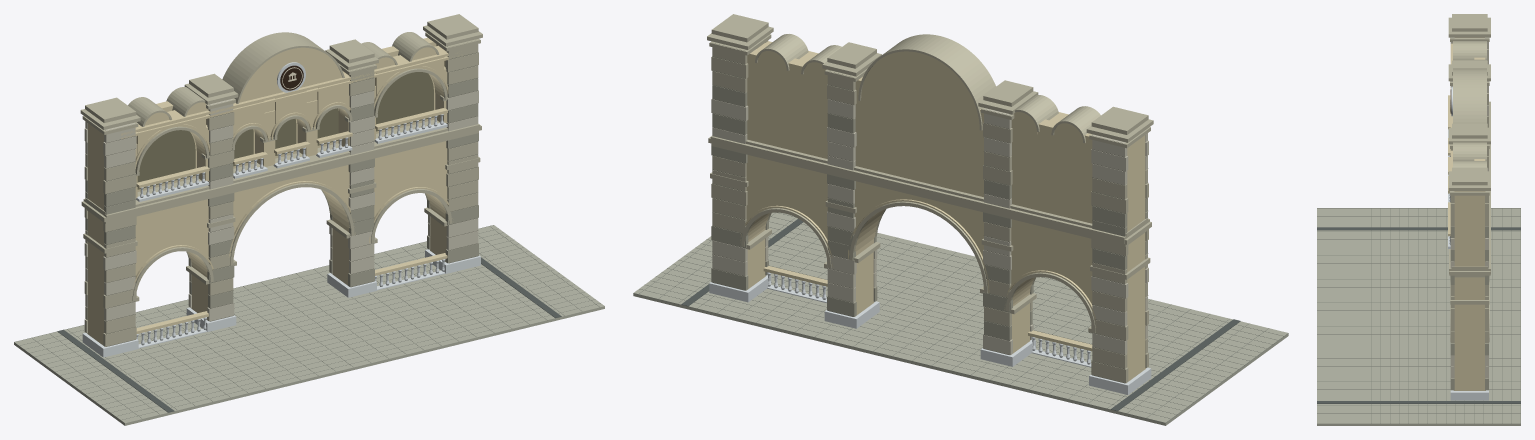
Rendered from motto_gate.glb.
3 views of the same model, side by side, from view 1: azimuth 30°, elevation 25°; view 2: azimuth 150°, elevation 25°; view 3: azimuth 270°, elevation 25° (orthographic). The views are drawn at different scales.
Parts seen in each view (by area): view 1: GateApron, RusticatedStoneBlocks, ApronTileGrout, LowerThroughArchVaults, LayeredPierCapitals, UpperNicheShadowRecesses, ContinuousBeltCornice, StonePierCores, RaisedUpperArchSpandrels, UpperContinuousCornice, CentralCurvedPediment, CentralPedimentRoundedCoping (+18 smaller); view 2: GateApron, RusticatedStoneBlocks, UpperRecessBackWall, LowerThroughArchVaults, ApronTileGrout, LayeredPierCapitals, StonePierCores, CentralCurvedPediment, ContinuousBeltCornice, CentralPedimentRoundedCoping, ProjectingPierPlinths, ScallopedParapetCoping (+8 smaller); view 3: GateApron, StonePierCores, ApronTileGrout, LayeredPierCapitals, CentralPedimentRoundedCoping, RusticatedStoneBlocks, ScallopedParapetCoping, DarkPavingBorders, ContinuousBeltCornice, ProjectingPierPlinths, UpperStoneBalcony_Handrail.
Boxes of the visible parts, box(x1,y1,x2,y2) form: GateApron: box(14, 225, 604, 425); RusticatedStoneBlocks: box(84, 39, 478, 346); ApronTileGrout: box(14, 225, 600, 422); LowerThroughArchVaults: box(135, 141, 447, 277); LayeredPierCapitals: box(80, 14, 482, 253); UpperNicheShadowRecesses: box(137, 72, 433, 189); ContinuousBeltCornice: box(83, 119, 479, 223); StonePierCores: box(87, 44, 446, 346); RaisedUpperArchSpandrels: box(136, 57, 444, 159); UpperContinuousCornice: box(121, 45, 459, 139); CentralCurvedPediment: box(239, 47, 341, 112); CentralPedimentRoundedCoping: box(222, 32, 344, 103); GateApron: box(633, 212, 1288, 425); RusticatedStoneBlocks: box(711, 40, 1148, 383); UpperRecessBackWall: box(747, 49, 1092, 223); LowerThroughArchVaults: box(746, 155, 1092, 306); ApronTileGrout: box(633, 212, 1288, 422); LayeredPierCapitals: box(707, 14, 1153, 279); StonePierCores: box(746, 43, 1145, 382); CentralCurvedPediment: box(861, 51, 980, 133); ContinuousBeltCornice: box(710, 136, 1149, 246); CentralPedimentRoundedCoping: box(858, 34, 995, 130); ProjectingPierPlinths: box(709, 275, 1151, 394); ScallopedParapetCoping: box(755, 34, 1100, 143); GateApron: box(1317, 208, 1520, 425); StonePierCores: box(1453, 37, 1485, 390); ApronTileGrout: box(1317, 208, 1520, 423); LayeredPierCapitals: box(1448, 14, 1490, 304); CentralPedimentRoundedCoping: box(1453, 68, 1486, 123); RusticatedStoneBlocks: box(1450, 37, 1488, 390); ScallopedParapetCoping: box(1453, 41, 1486, 167); DarkPavingBorders: box(1317, 227, 1520, 403); ContinuousBeltCornice: box(1449, 101, 1490, 277); ProjectingPierPlinths: box(1450, 390, 1488, 400); UpperStoneBalcony_Handrail: box(1448, 95, 1450, 236).
Size of what is drawn, in the model's own units: 30.01 by 15.88 by 12.01.
